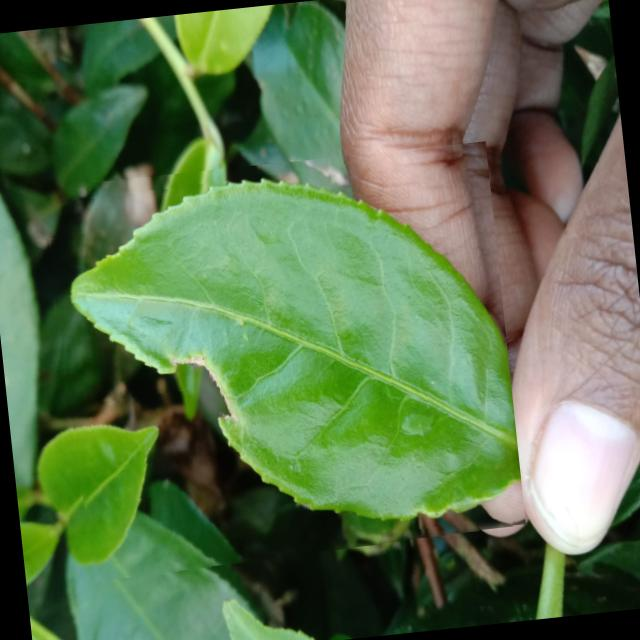Category C(4-7 days): (41, 140, 526, 582)
